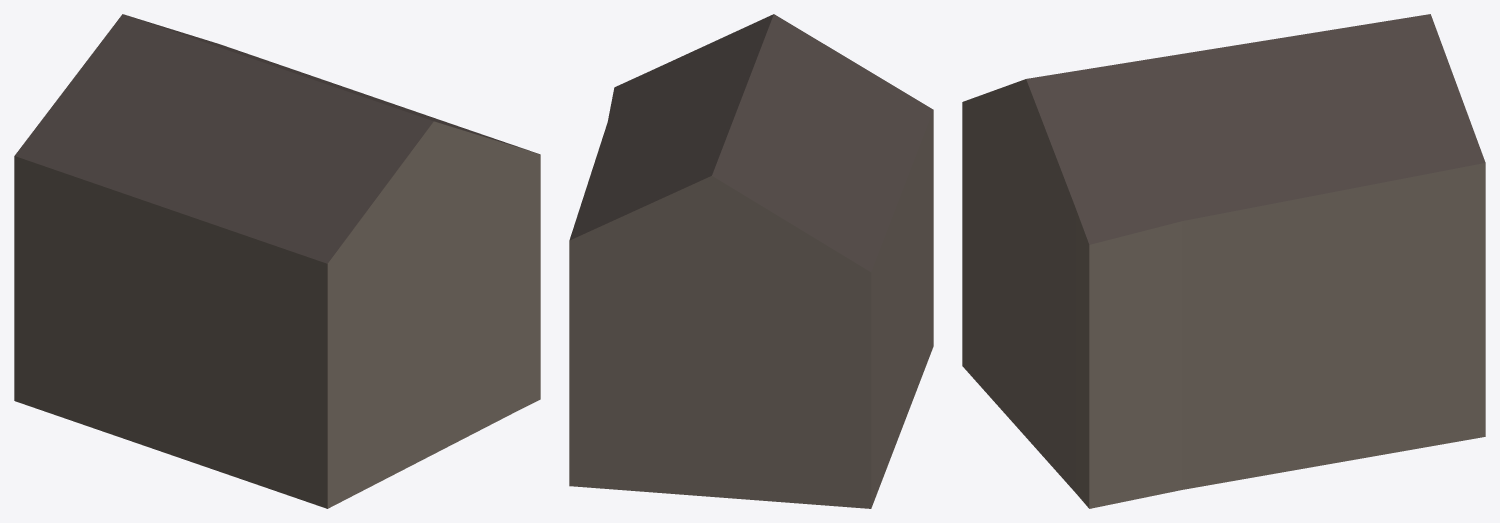
3 views of the same model, side by side, from view 1: azimuth 30°, elevation 25°; view 2: azimuth 150°, elevation 25°; view 3: azimuth 270°, elevation 25° (orthographic). The views are drawn at different scales.
Visible parts, largest first — view 1: HP-w1198645084; view 2: HP-w1198645084; view 3: HP-w1198645084.
Boxes of the visible parts, x1,y1,x2,y2 form: HP-w1198645084: [14, 14, 540, 508]; HP-w1198645084: [569, 14, 933, 508]; HP-w1198645084: [962, 14, 1485, 508].
Size of the model in its own units: 10.15 by 8.15 by 10.78.
